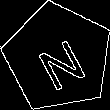N_NW: (29, 26, 88, 89)
